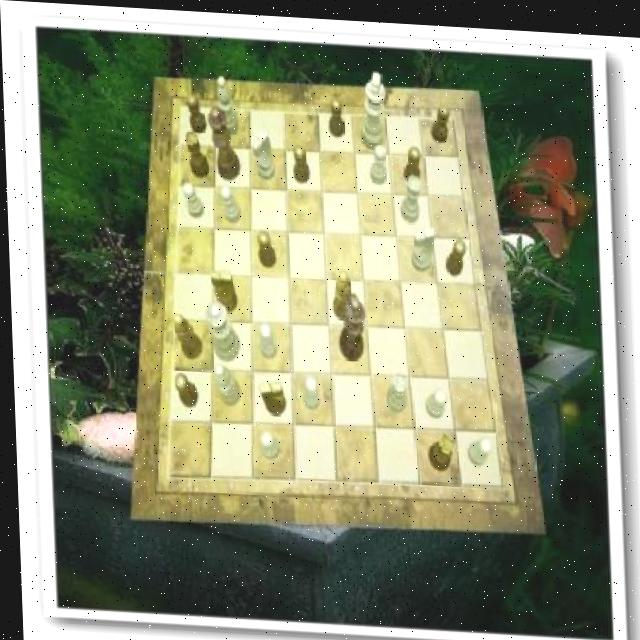bishop: (170, 312, 201, 359), (330, 266, 351, 316)
black-bishop: (335, 289, 364, 358)
black-king: (209, 268, 236, 310), (257, 378, 284, 413)
black-knight: (172, 371, 196, 406), (443, 233, 465, 271), (430, 100, 451, 139), (187, 92, 207, 131), (402, 142, 421, 181), (256, 227, 274, 264), (292, 141, 309, 180), (327, 95, 344, 134)
black-pawn: (207, 102, 239, 178)
black-queen: (183, 129, 209, 177), (424, 427, 452, 467)
black-rook: (217, 73, 239, 132), (213, 360, 239, 403)
white-bishop: (358, 66, 387, 146)
white-king: (251, 125, 275, 177), (409, 222, 434, 269)
white-knight: (219, 182, 240, 221), (182, 180, 203, 216), (370, 140, 388, 181), (423, 382, 446, 414), (464, 432, 490, 460), (298, 372, 317, 407), (257, 321, 275, 356), (257, 427, 277, 457)
white-pawn: (202, 300, 238, 362)
white-queen: (398, 171, 422, 219), (382, 368, 406, 409)
